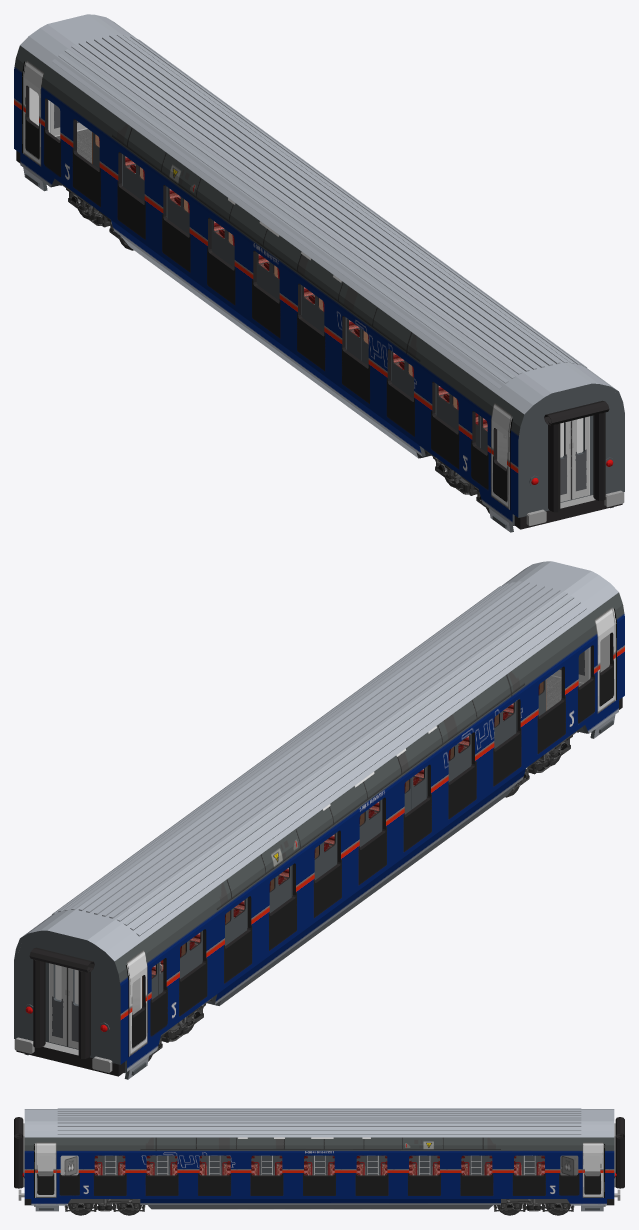
The model's file is nightjetcoach.obj.
The picture shows the model from 3 angles, top to bottom: view 1: azimuth 30°, elevation 25°; view 2: azimuth 150°, elevation 25°; view 3: azimuth 270°, elevation 25°; orthographic projection. The views are drawn at different scales.
Visible parts, largest first — view 1: side, jibung, back, insidedoor, tongromak, backdoor, DT71, door_RB, door_RF, wall, habu2, tongilchair; view 2: side, jibung, back, insidedoor, tongromak, backdoor, DT71, door_RF, door_RB, wall, habu2, tongilchair; view 3: side, jibung, insidedoor, bed, DT71, tongilchair, tongromak, door_LB, door_LF, wall, badak, door_RB (+2 smaller).
Boxes of the visible parts, box(x1,y1,x2,y2) form: side: box(14, 45, 624, 532); jibung: box(20, 14, 617, 414); back: box(522, 383, 621, 516); insidedoor: box(93, 132, 487, 452); tongromak: box(544, 400, 609, 512); backdoor: box(50, 102, 589, 502); DT71: box(60, 184, 489, 513); door_RB: box(23, 77, 41, 180); door_RF: box(491, 419, 508, 522); wall: box(92, 132, 583, 468); habu2: box(16, 151, 622, 529); tongilchair: box(99, 138, 487, 429); side: box(14, 592, 624, 1079); jibung: box(21, 561, 618, 961); back: box(17, 930, 116, 1063); insidedoor: box(151, 679, 545, 999); tongromak: box(29, 947, 94, 1058); backdoor: box(49, 648, 588, 1048); DT71: box(148, 731, 578, 1061); door_RF: box(597, 624, 615, 726); door_RB: box(129, 966, 147, 1069); wall: box(55, 679, 546, 1014); habu2: box(16, 697, 622, 1076); tongilchair: box(151, 684, 539, 975); side: box(24, 1137, 614, 1211); jibung: box(24, 1108, 614, 1137); insidedoor: box(94, 1155, 544, 1174); bed: box(94, 1155, 544, 1175); DT71: box(64, 1199, 574, 1215); tongilchair: box(94, 1156, 544, 1175); tongromak: box(14, 1117, 624, 1188); door_LB: box(582, 1153, 603, 1210); door_LF: box(35, 1153, 56, 1205); wall: box(60, 1155, 578, 1175); badak: box(38, 1171, 600, 1175); door_RB: box(585, 1156, 600, 1171).
Size of the model in its own units: 2.87 by 4.01 by 23.98.
Materials: 18 (18 with a texture image).
